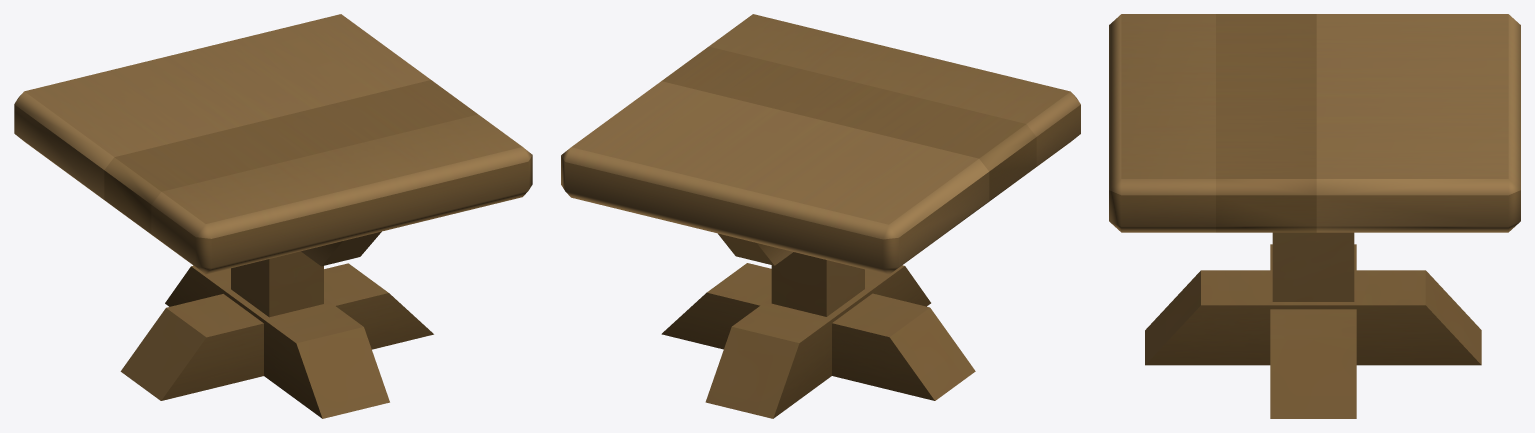
Rendered from table_roof_small_square.fbx.
3 views of the same model, side by side, from view 1: azimuth 30°, elevation 25°; view 2: azimuth 150°, elevation 25°; view 3: azimuth 270°, elevation 25° (orthographic). The views are drawn at different scales.
Parts seen in each view (by area): view 1: table_roof_small_square; view 2: table_roof_small_square; view 3: table_roof_small_square.
Boxes of the visible parts, left/top/right/bottom form: table_roof_small_square: left=14, top=14, right=532, bottom=418; table_roof_small_square: left=561, top=14, right=1080, bottom=418; table_roof_small_square: left=1109, top=14, right=1520, bottom=418.
Size of the model in its own units: 103 by 68.43 by 102.
